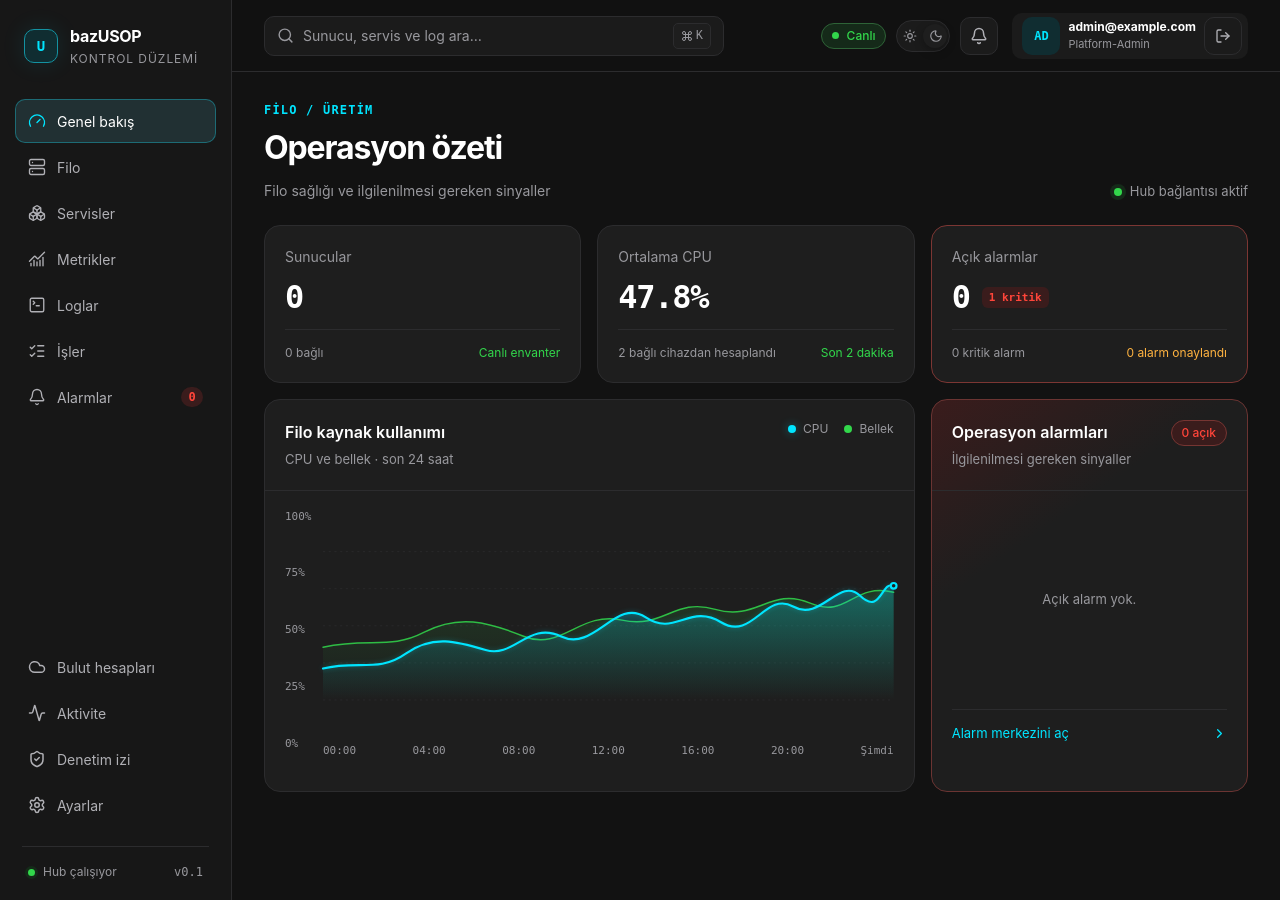
Test case: bazUSOP shell › presents the unified operations overview
expect the heading "Operasyon özeti" is shown: met, box [264,128,502,167]
expect the text "Sunucular" is shown: met, box [285,248,352,265]
Click the button "Filo" at [116, 167], box [16,146,215,188]
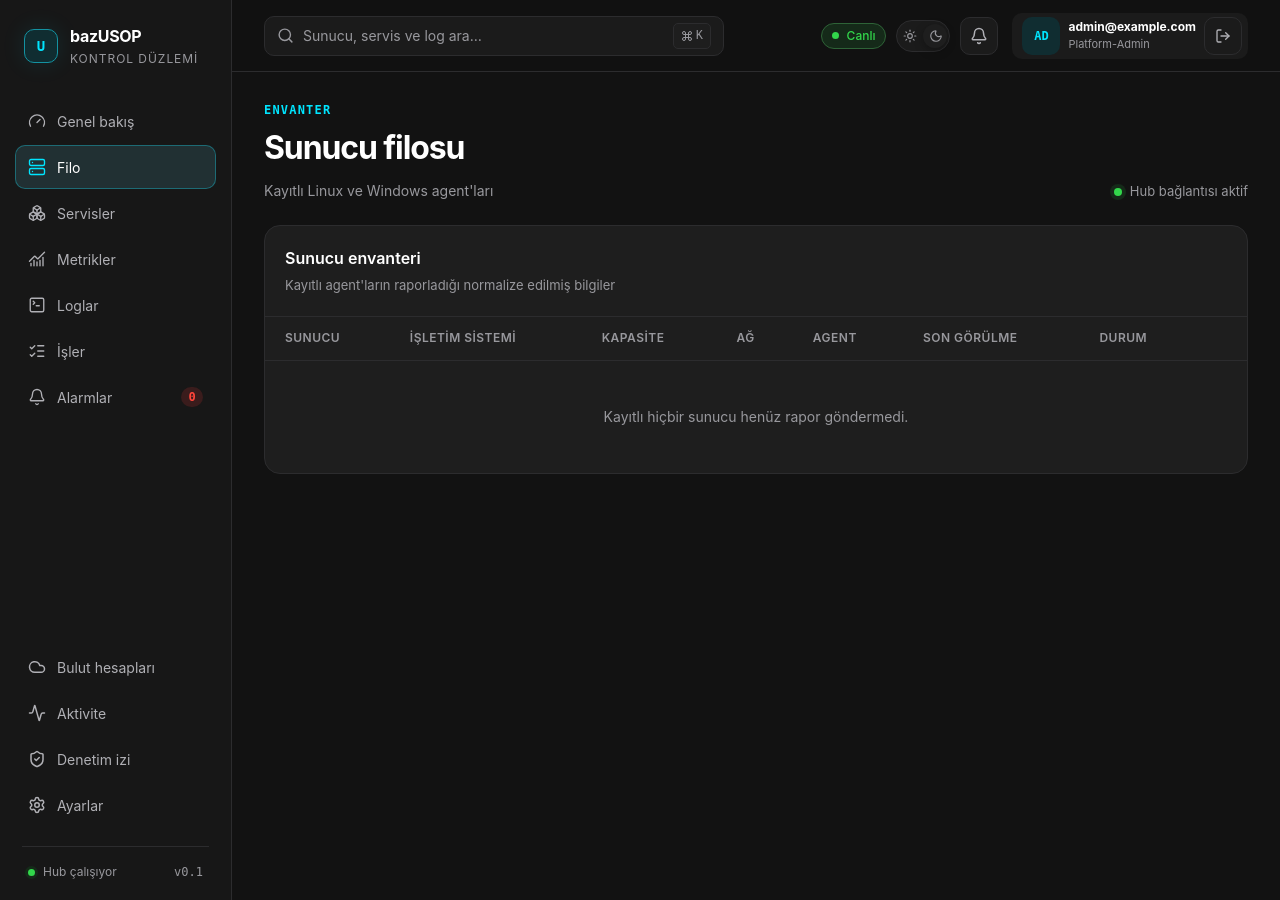
expect the heading "Sunucu filosu" is shown: met, box [264,124,493,172]
expect the table named "Sunucu sağlığı" is shown: met, box [265,316,1247,472]
